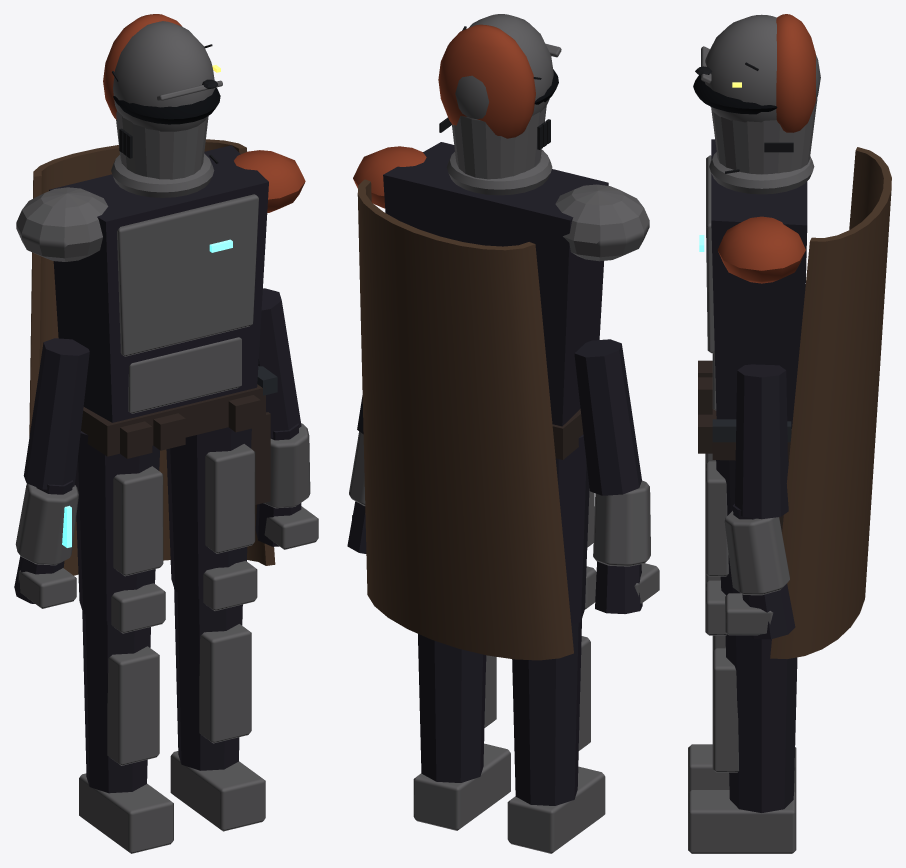
File: pilot_figure_worn.glb
The picture shows the model from 3 angles, left to right: view 1: azimuth 30°, elevation 25°; view 2: azimuth 150°, elevation 25°; view 3: azimuth 270°, elevation 25°; orthographic projection. The views are drawn at different scales.
Visible parts, largest first — view 1: pilot_armor, pilot_body, pilot_belt, pilot_cape, pilot_helmet_crown, pilot_helmet_jaw, pilot_pauldron, pilot_collar, pilot_visor, pilot_helmet_livery; view 2: pilot_cape, pilot_body, pilot_armor, pilot_helmet_livery, pilot_helmet_jaw, pilot_helmet_crown, pilot_collar, pilot_pauldron, pilot_belt; view 3: pilot_cape, pilot_body, pilot_armor, pilot_helmet_crown, pilot_helmet_jaw, pilot_pauldron, pilot_helmet_livery, pilot_collar, pilot_belt, pilot_visor, pilot_sidearm, pilot_scuffs.
Boxes of the visible parts, left/top/right/bottom form: pilot_armor: left=15, top=187, right=318, bottom=853; pilot_body: left=14, top=145, right=301, bottom=793; pilot_belt: left=81, top=384, right=270, bottom=504; pilot_cape: left=29, top=139, right=275, bottom=575; pilot_helmet_crown: left=113, top=21, right=215, bottom=131; pilot_helmet_jaw: left=116, top=110, right=208, bottom=179; pilot_pauldron: left=234, top=150, right=305, bottom=212; pilot_collar: left=111, top=153, right=214, bottom=197; pilot_visor: left=113, top=87, right=220, bottom=124; pilot_helmet_livery: left=103, top=14, right=182, bottom=119; pilot_cape: left=357, top=179, right=573, bottom=660; pilot_body: left=347, top=142, right=642, bottom=805; pilot_armor: left=349, top=184, right=659, bottom=853; pilot_helmet_livery: left=438, top=24, right=535, bottom=138; pilot_helmet_jaw: left=452, top=106, right=546, bottom=179; pilot_helmet_crown: left=455, top=14, right=553, bottom=118; pilot_collar: left=446, top=150, right=552, bottom=195; pilot_pauldron: left=353, top=146, right=426, bottom=208; pilot_belt: left=552, top=409, right=583, bottom=459; pilot_cape: left=770, top=147, right=891, bottom=658; pilot_body: left=711, top=139, right=807, bottom=812; pilot_armor: left=688, top=155, right=796, bottom=853; pilot_helmet_crown: left=705, top=14, right=820, bottom=122; pilot_helmet_jaw: left=711, top=98, right=817, bottom=174; pilot_pauldron: left=717, top=216, right=805, bottom=283; pilot_helmet_livery: left=776, top=14, right=815, bottom=132; pilot_collar: left=709, top=152, right=814, bottom=194; pilot_belt: left=698, top=360, right=791, bottom=531; pilot_visor: left=693, top=75, right=777, bottom=114; pilot_sidearm: left=712, top=419, right=791, bottom=442; pilot_scuffs: left=725, top=62, right=793, bottom=173.
Bounding box in the file's own units: 0.6883 × 1.8 × 0.4148.
